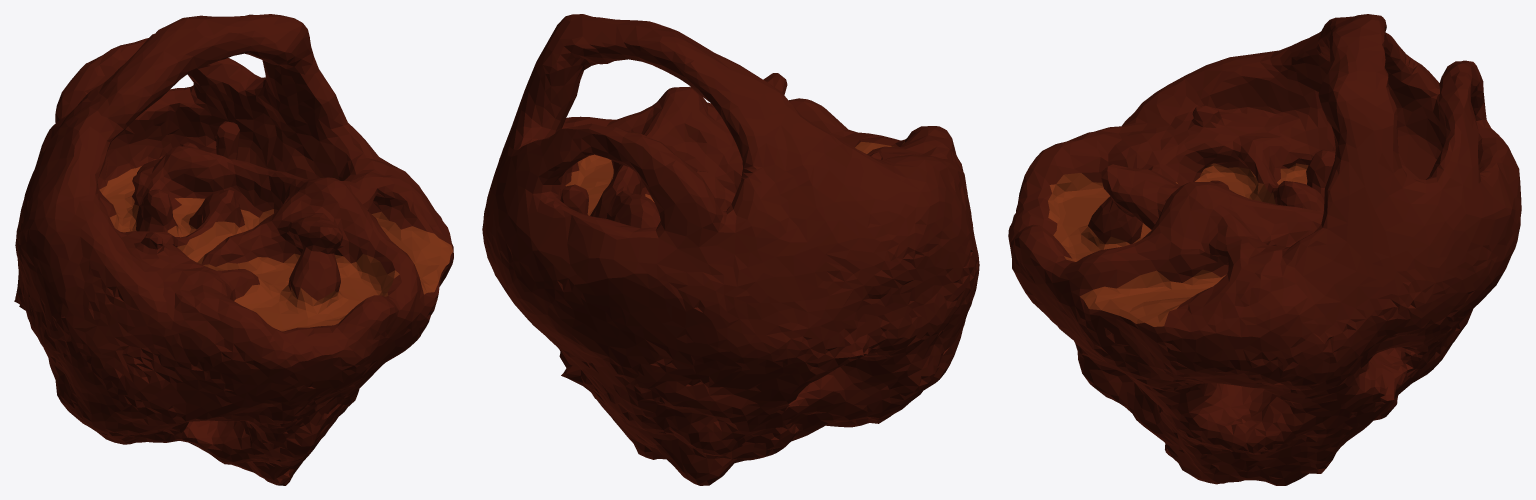
The model's file is Canyon_Island-3.FBX.
3 renders of one model, left to right at view 1: azimuth 30°, elevation 25°; view 2: azimuth 150°, elevation 25°; view 3: azimuth 270°, elevation 25°, orthographic. The views are drawn at different scales.
Visible parts, largest first — view 1: Canyon; view 2: Canyon; view 3: Canyon.
Boxes of the visible parts, x1,y1,x2,y2 form: Canyon: (14,14,453,485); Canyon: (482,14,979,485); Canyon: (1008,14,1521,485).
Size of the model in its own units: 1784196 by 1875961 by 1826163.
